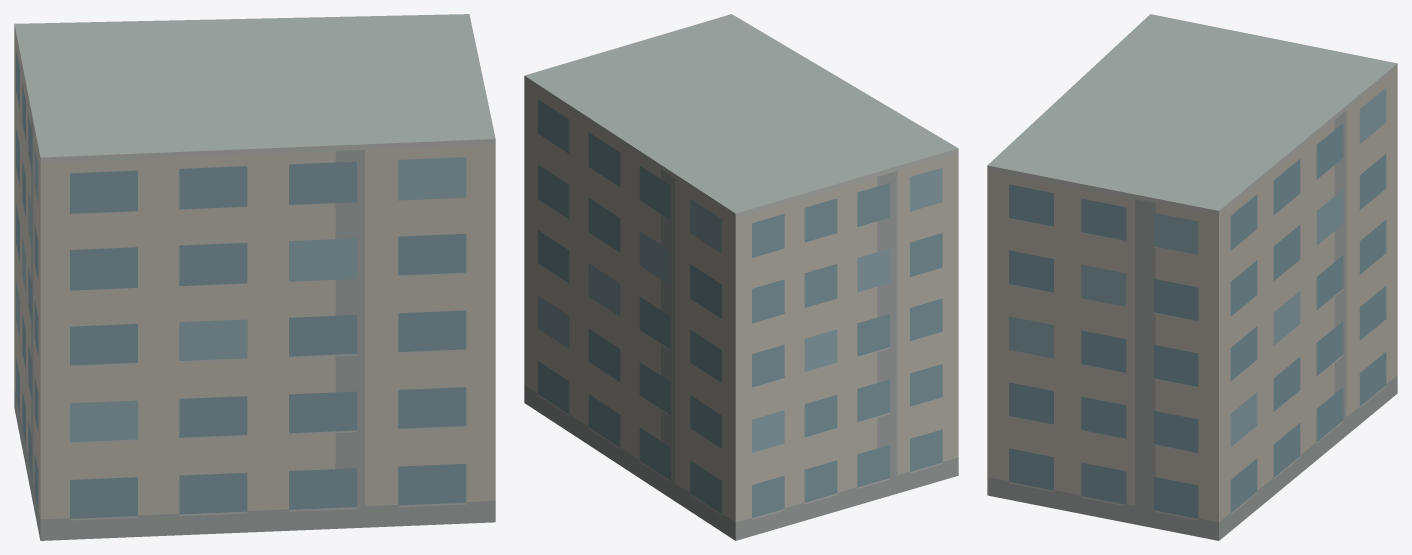
File: survey-upis-32470173.glb
The picture shows the model from 3 angles, left to right: view 1: azimuth 30°, elevation 25°; view 2: azimuth 150°, elevation 25°; view 3: azimuth 270°, elevation 25°; orthographic projection. The views are drawn at different scales.
Visible parts, largest first — view 1: survey-upis-32470173.tmp; view 2: survey-upis-32470173.tmp; view 3: survey-upis-32470173.tmp.
Boxes of the visible parts, x1,y1,x2,y2 form: survey-upis-32470173.tmp: (14,14,495,540); survey-upis-32470173.tmp: (524,14,958,540); survey-upis-32470173.tmp: (987,14,1397,540).
Size of the model in its own units: 21.86 by 17.07 by 19.25.
